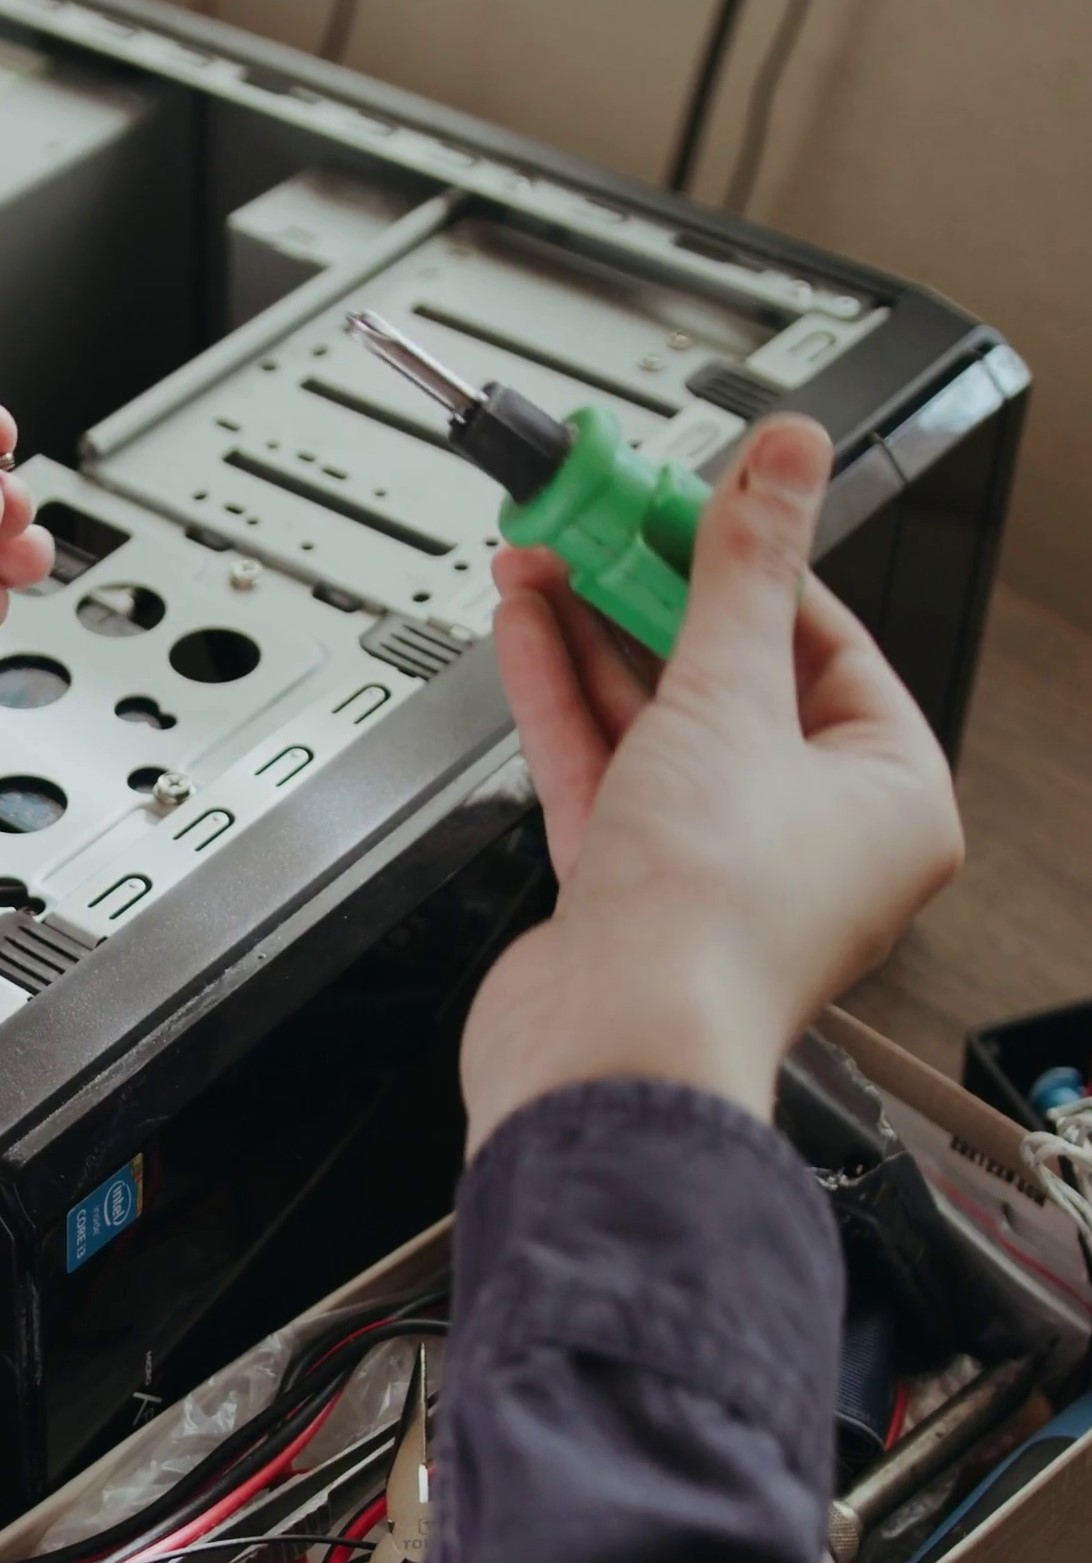screwdriver: (332, 291, 886, 738)
